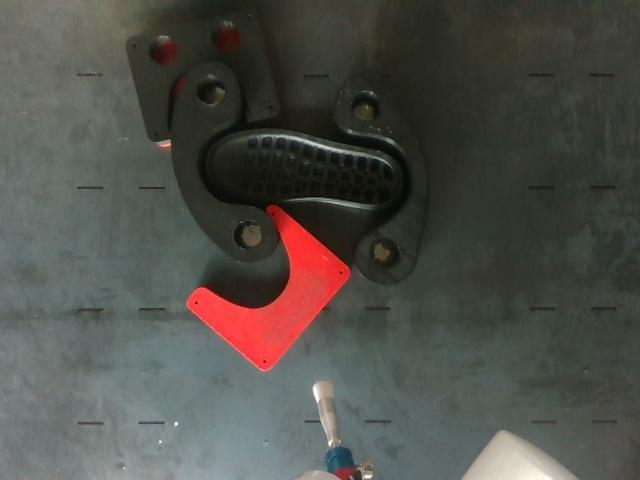shoes: (207, 134, 394, 206)
